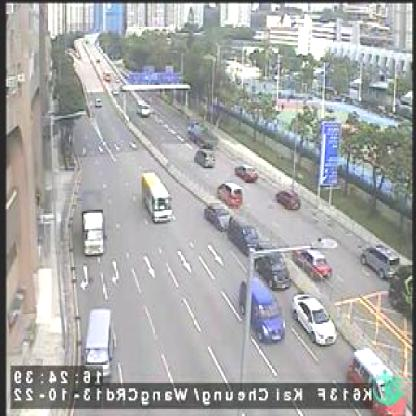Bus: (138, 170, 172, 223)
Car: (349, 348, 400, 409), (238, 278, 286, 341), (292, 291, 338, 347), (83, 307, 113, 386), (360, 242, 404, 282), (252, 249, 291, 291), (295, 243, 333, 282), (230, 215, 261, 256), (204, 200, 232, 231), (218, 181, 242, 208), (275, 188, 301, 210), (193, 146, 214, 168), (235, 161, 257, 181), (136, 100, 150, 117), (93, 96, 102, 107)
Truck: (82, 204, 104, 258), (186, 115, 220, 148)
